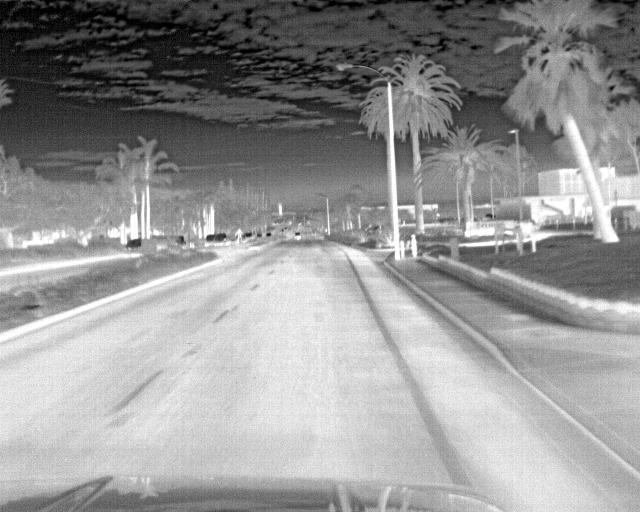car: (124, 237, 143, 255), (213, 230, 229, 246), (203, 232, 218, 245)
